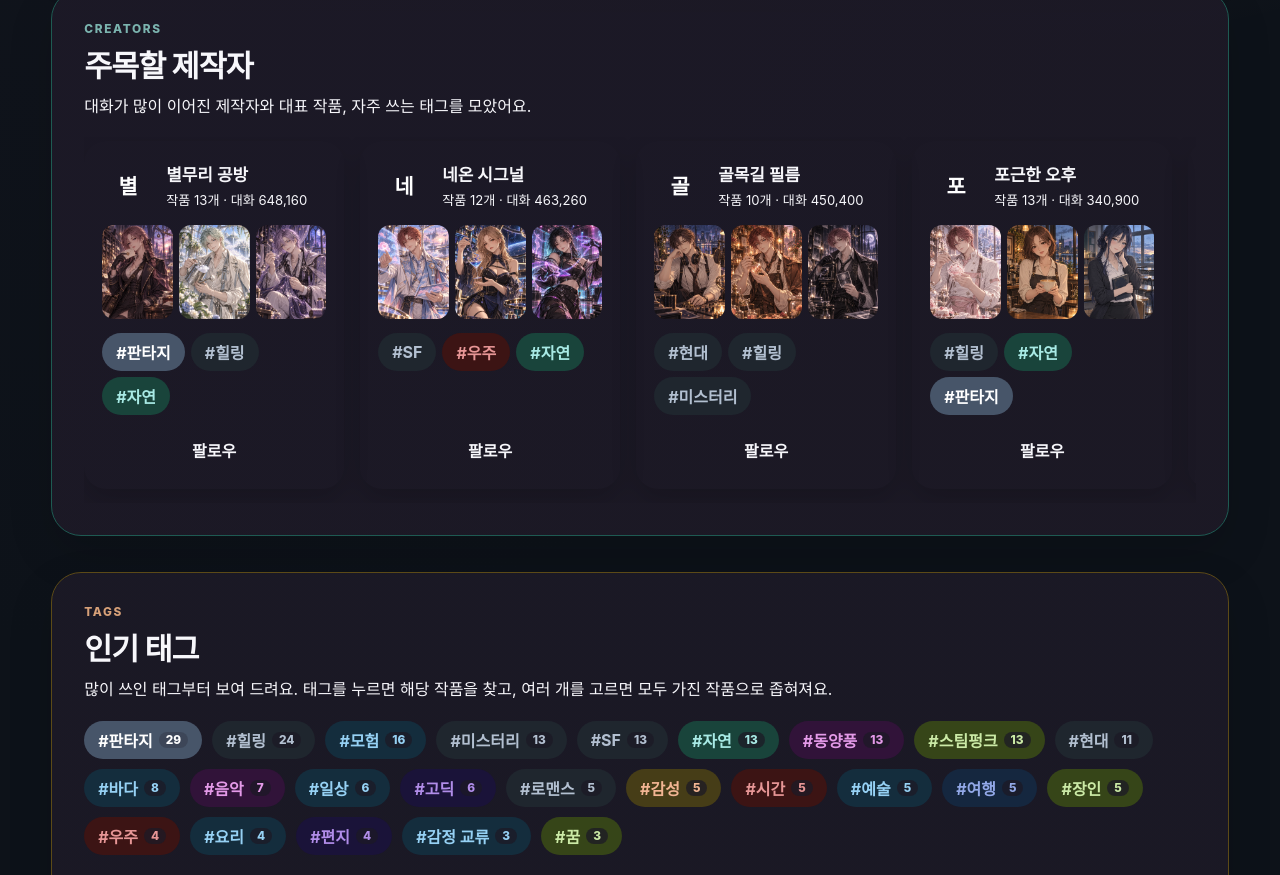
Scenario: 탐색 화면 › 주소의 태그로 결과를 바로 보여 주고 제작자 팔로우를 전환한다
(page scrolled)
Click the button with aria-label "제작자 팔로우".
click(214, 450)  # box [102,429,326,471]
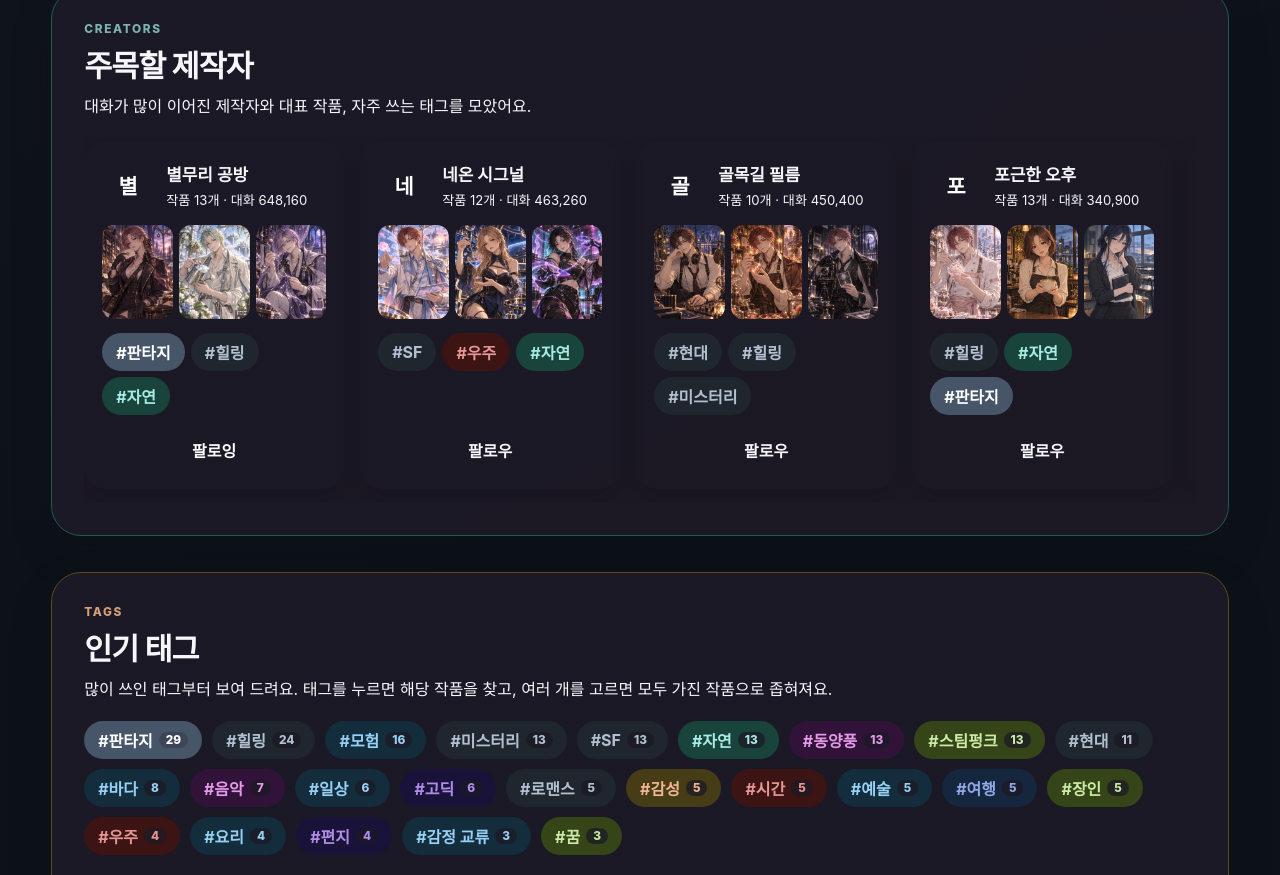
Check: the button with aria-label "제작자 팔로우" reads "팔로잉", box [102,429,326,471]
